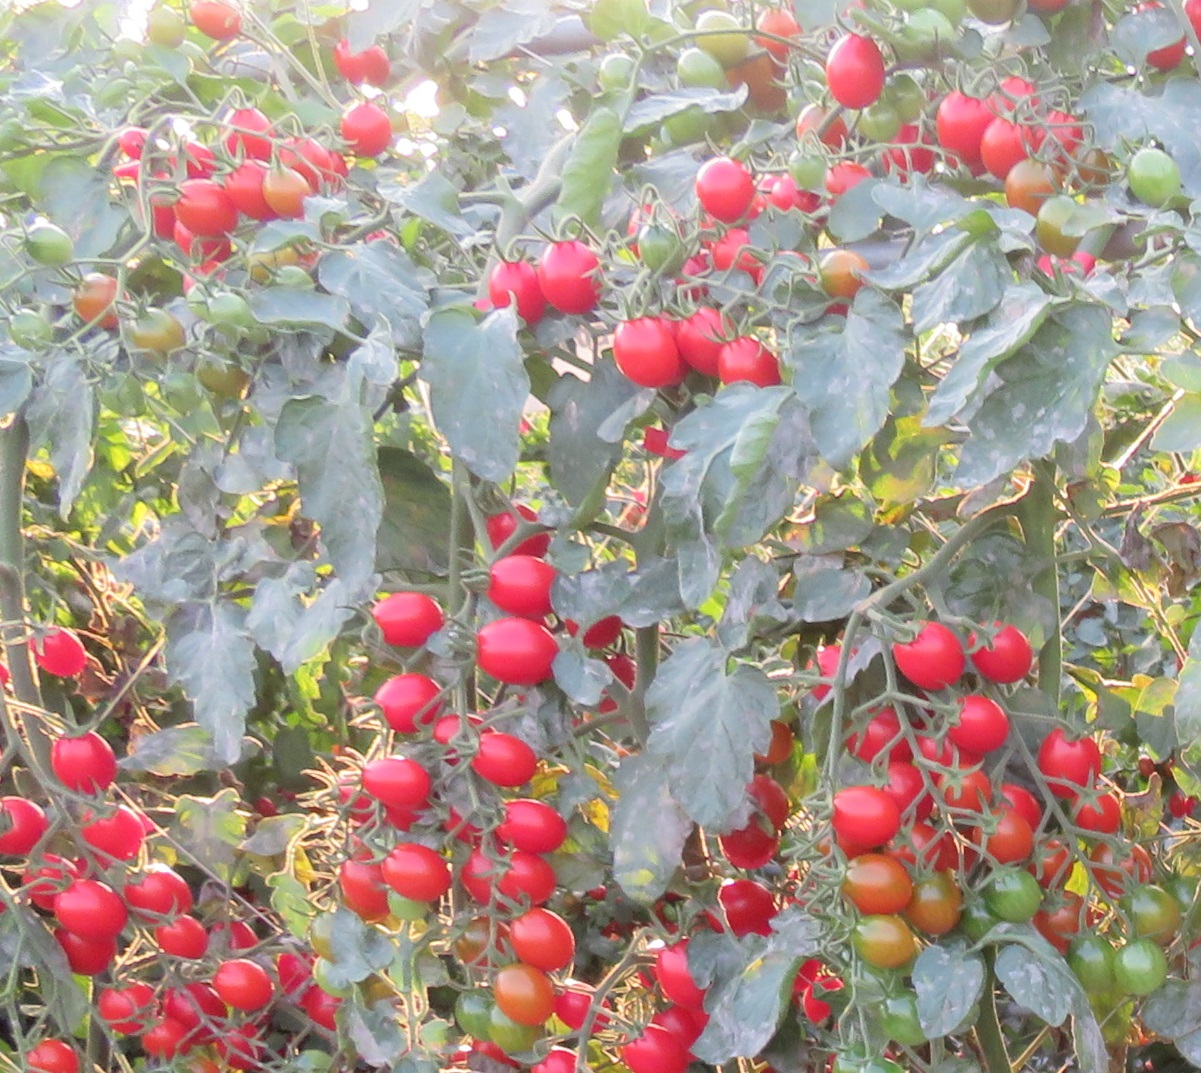green: (907, 867, 963, 945), (1115, 894, 1183, 946), (851, 912, 917, 965), (127, 306, 189, 361), (1127, 145, 1181, 209), (984, 869, 1044, 925), (878, 991, 937, 1047), (1109, 944, 1169, 995), (1035, 195, 1083, 259), (695, 8, 745, 63), (23, 223, 83, 267), (673, 45, 725, 94), (638, 223, 684, 278), (94, 373, 148, 419), (453, 988, 496, 1045), (205, 289, 257, 332), (1068, 934, 1106, 992), (600, 51, 649, 91), (8, 311, 55, 352), (858, 103, 900, 143), (307, 908, 338, 962), (787, 151, 826, 192), (147, 5, 180, 44), (273, 266, 315, 296)
orange: (609, 312, 679, 388), (840, 856, 909, 923), (836, 783, 903, 851), (383, 841, 455, 903), (497, 968, 559, 1027), (972, 812, 1036, 867), (1038, 892, 1093, 955), (72, 272, 130, 329), (1003, 158, 1060, 215), (1089, 839, 1152, 888), (214, 959, 272, 1009), (935, 765, 993, 814), (753, 7, 803, 61), (796, 103, 848, 154), (456, 918, 508, 968), (818, 249, 872, 298), (1064, 142, 1110, 195), (188, 1, 243, 45), (259, 167, 309, 213)
red: (463, 617, 559, 684), (695, 138, 762, 227), (823, 28, 895, 112), (462, 854, 559, 909), (48, 728, 126, 795), (890, 624, 969, 689), (535, 234, 596, 317), (965, 618, 1037, 688), (375, 671, 447, 734), (931, 695, 1013, 751), (937, 91, 992, 174), (1039, 727, 1104, 798), (491, 798, 567, 856), (169, 177, 241, 237), (47, 883, 123, 938), (370, 590, 443, 647), (487, 555, 554, 615), (119, 863, 196, 914), (164, 983, 226, 1044), (470, 733, 539, 787), (359, 757, 437, 805), (490, 261, 545, 327), (713, 335, 780, 388), (707, 881, 774, 934), (656, 939, 706, 1009), (678, 304, 725, 378), (29, 624, 88, 679), (341, 102, 396, 162), (222, 106, 277, 164), (717, 815, 778, 869), (97, 981, 158, 1034), (488, 503, 552, 552), (332, 36, 392, 88), (620, 1023, 683, 1072), (53, 929, 118, 975), (1, 796, 50, 856), (85, 811, 142, 861), (153, 917, 217, 959), (167, 139, 216, 183), (304, 979, 345, 1033), (565, 613, 623, 649), (1073, 793, 1122, 834), (26, 1037, 78, 1073)
